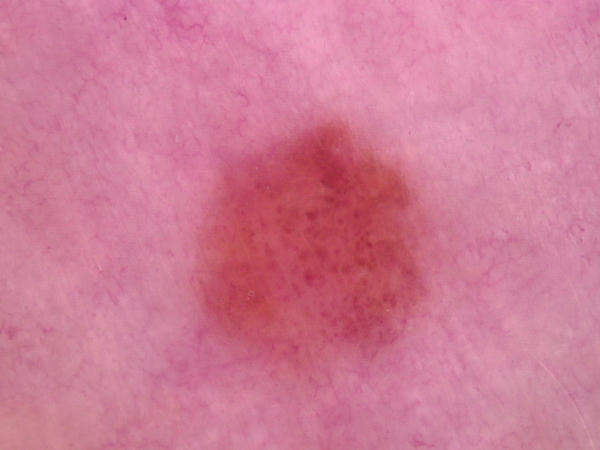Detected Lesion: (196, 115, 433, 376)
